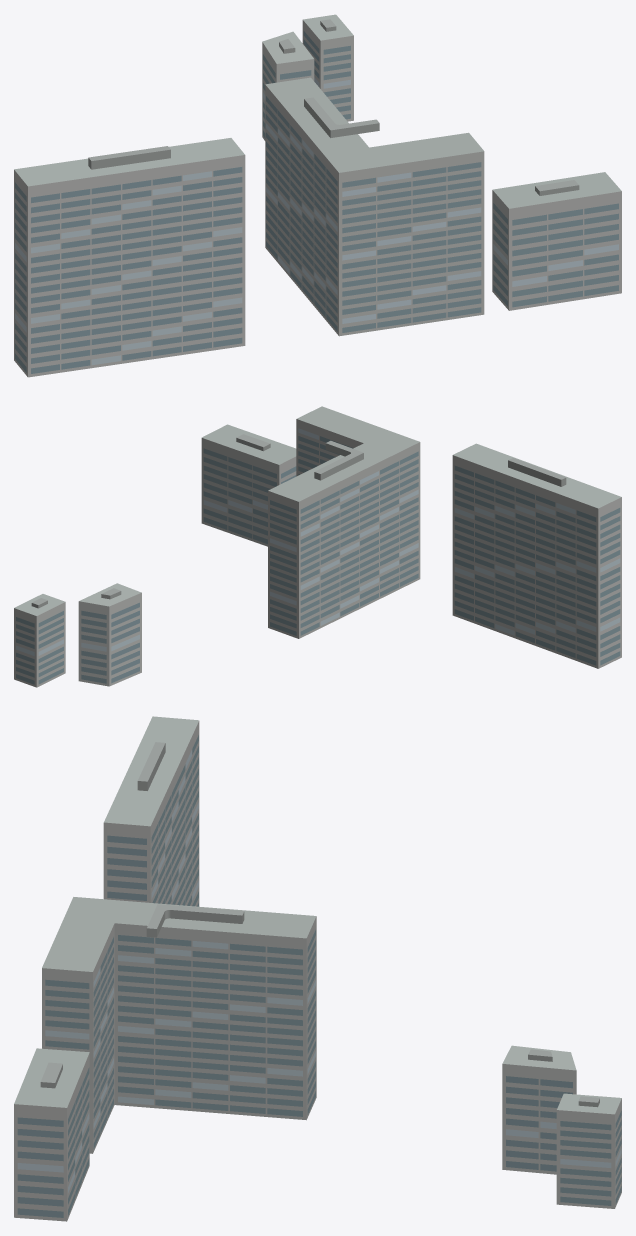
The model's file is apt-a15010303.glb.
3 renders of one model, top to bottom at view 1: azimuth 30°, elevation 25°; view 2: azimuth 150°, elevation 25°; view 3: azimuth 270°, elevation 25°, orthographic. The views are drawn at different scales.
Parts seen in each view (by area): view 1: apt-a15010303; view 2: apt-a15010303; view 3: apt-a15010303.
Part boxes in pixels (x1,y1,x2,y2): apt-a15010303: (14, 14, 621, 377); apt-a15010303: (14, 406, 621, 687); apt-a15010303: (14, 716, 621, 1221).
Bounding box in the file's own units: 158 × 56 × 139.
